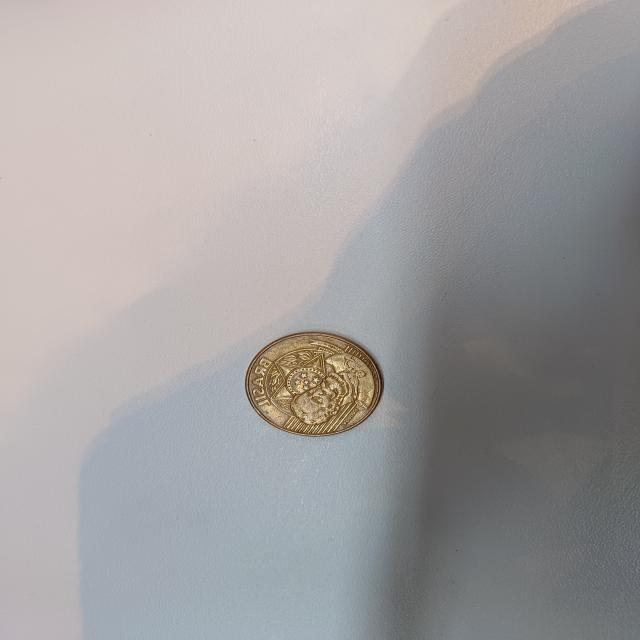25 cents: (245, 331, 386, 436)
